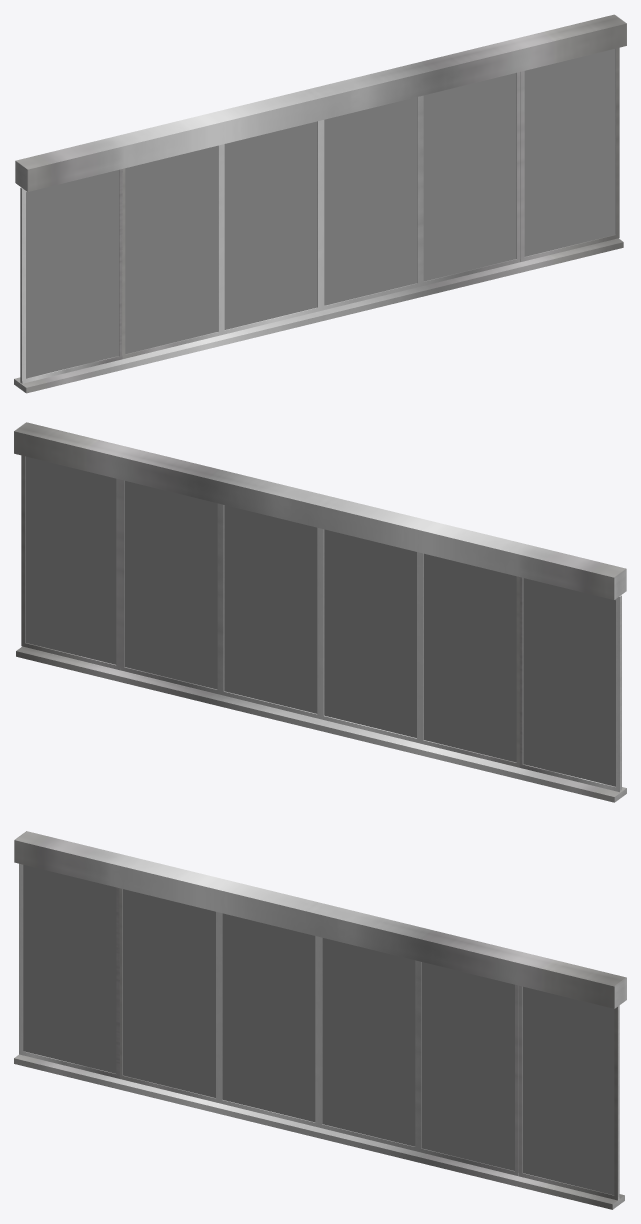
Rendered from door_auto.gltf.
The picture shows the model from 3 angles, top to bottom: view 1: azimuth 30°, elevation 25°; view 2: azimuth 150°, elevation 25°; view 3: azimuth 330°, elevation 25°; orthographic projection.
Visible parts, largest first — view 1: pCube9, pCube5_lambert2_0.001, pCube5, pCube5_lambert2_0.003, pCube5_lambert2_0.004, pCube5_lambert2_0.005, pCube5_lambert2_0.002, pCube6_blinn1_0.002, pCube6_blinn1_0.005, pCube6_blinn1_0.003, pCube6, pCube6_blinn1_0.001 (+1 smaller); view 2: pCube9, pCube5, pCube5_lambert2_0.004, pCube5_lambert2_0.001, pCube5_lambert2_0.005, pCube5_lambert2_0.003, pCube5_lambert2_0.002, pCube6_blinn1_0.005, pCube6_blinn1_0.002, pCube6_blinn1_0.004, pCube6, pCube6_blinn1_0.001 (+1 smaller); view 3: pCube9, pCube5_lambert2_0.005, pCube5, pCube5_lambert2_0.003, pCube5_lambert2_0.001, pCube5_lambert2_0.004, pCube5_lambert2_0.002, pCube6_blinn1_0.002, pCube6_blinn1_0.001, pCube6_blinn1_0.005, pCube6, pCube6_blinn1_0.004 (+1 smaller).
Boxes of the visible parts, x1=… form: pCube9: x1=14, y1=14, x2=626, y2=393; pCube5_lambert2_0.001: x1=423, y1=73, x2=516, y2=281; pCube5: x1=324, y1=97, x2=417, y2=305; pCube5_lambert2_0.003: x1=224, y1=121, x2=317, y2=329; pCube5_lambert2_0.004: x1=125, y1=145, x2=218, y2=354; pCube5_lambert2_0.005: x1=26, y1=170, x2=118, y2=378; pCube5_lambert2_0.002: x1=524, y1=48, x2=615, y2=256; pCube6_blinn1_0.002: x1=520, y1=47, x2=619, y2=261; pCube6_blinn1_0.005: x1=20, y1=169, x2=122, y2=383; pCube6_blinn1_0.003: x1=221, y1=120, x2=321, y2=334; pCube6: x1=321, y1=96, x2=421, y2=310; pCube6_blinn1_0.001: x1=421, y1=72, x2=520, y2=286; pCube9: x1=14, y1=422, x2=626, y2=802; pCube5: x1=224, y1=505, x2=317, y2=713; pCube5_lambert2_0.004: x1=423, y1=553, x2=516, y2=762; pCube5_lambert2_0.001: x1=124, y1=481, x2=217, y2=689; pCube5_lambert2_0.005: x1=523, y1=578, x2=615, y2=786; pCube5_lambert2_0.003: x1=324, y1=529, x2=416, y2=737; pCube5_lambert2_0.002: x1=25, y1=456, x2=116, y2=664; pCube6_blinn1_0.005: x1=519, y1=577, x2=621, y2=792; pCube6_blinn1_0.002: x1=21, y1=455, x2=120, y2=670; pCube6_blinn1_0.004: x1=419, y1=552, x2=520, y2=767; pCube6: x1=220, y1=504, x2=320, y2=718; pCube6_blinn1_0.001: x1=120, y1=479, x2=221, y2=694; pCube9: x1=14, y1=831, x2=626, y2=1209; pCube5_lambert2_0.005: x1=23, y1=865, x2=116, y2=1073; pCube5: x1=322, y1=937, x2=415, y2=1146; pCube5_lambert2_0.003: x1=222, y1=913, x2=315, y2=1122; pCube5_lambert2_0.001: x1=421, y1=962, x2=514, y2=1170; pCube5_lambert2_0.004: x1=123, y1=889, x2=215, y2=1097; pCube5_lambert2_0.002: x1=523, y1=986, x2=614, y2=1195; pCube6_blinn1_0.002: x1=519, y1=985, x2=619, y2=1200; pCube6_blinn1_0.001: x1=417, y1=961, x2=518, y2=1176; pCube6_blinn1_0.005: x1=19, y1=863, x2=119, y2=1078; pCube6: x1=318, y1=936, x2=418, y2=1151; pCube6_blinn1_0.004: x1=118, y1=888, x2=219, y2=1102.
Bounding box in the file's own units: 8.48 × 3.03 × 0.3159.
2 materials, 1 textured.
